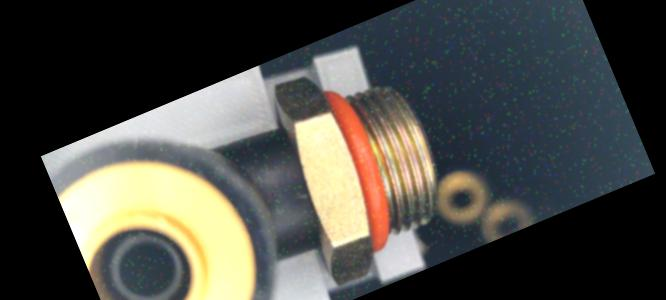white mark: (294, 189, 312, 204)
